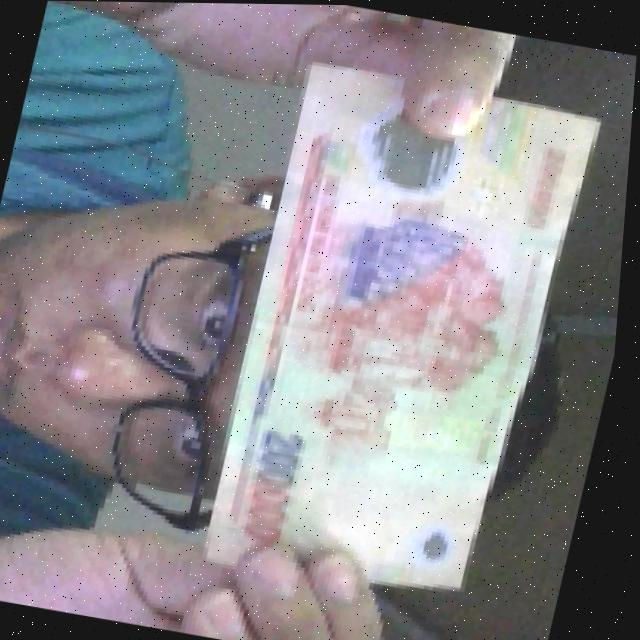200 000 VND: (201, 53, 622, 615)
